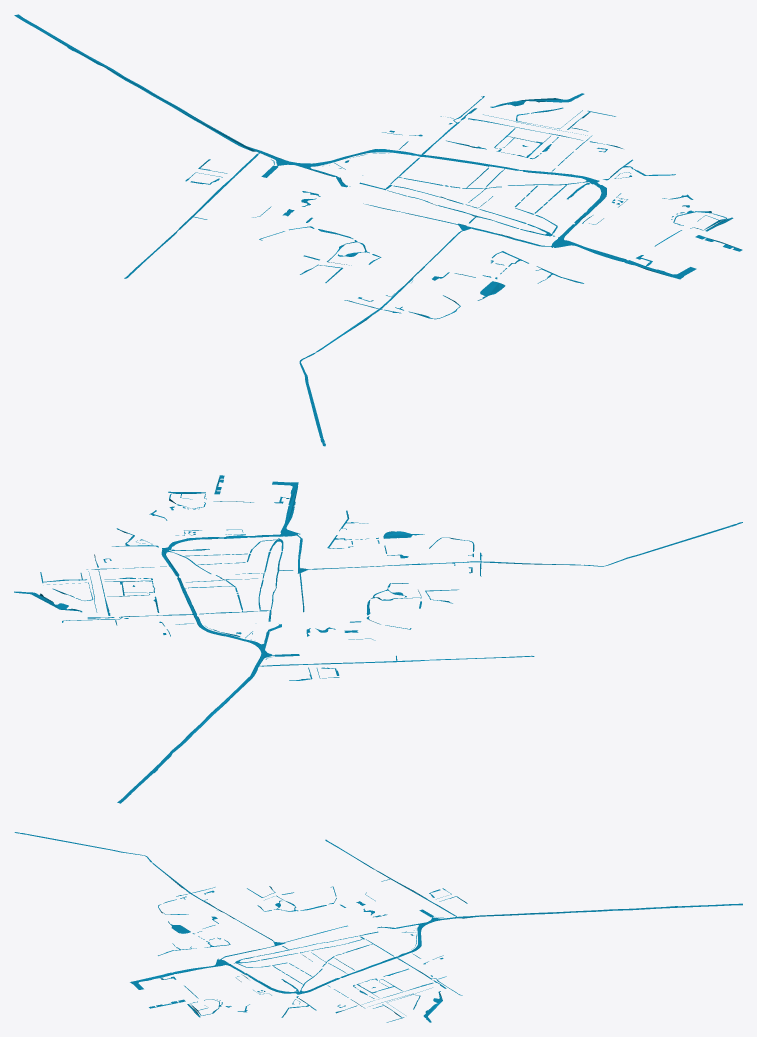
File: water.glb
3 renders of one model, top to bottom at view 1: azimuth 30°, elevation 25°; view 2: azimuth 150°, elevation 25°; view 3: azimuth 270°, elevation 25°, orthographic. The views are drawn at different scales.
Parts seen in each view (by area): view 1: water; view 2: water; view 3: water.
Boxes of the visible parts, x1,y1,x2,y2 form: water: (14,14,742,446); water: (14,475,742,803); water: (14,832,742,1022).
Size of the model in its own units: 3701 by 21.14 by 5972.
